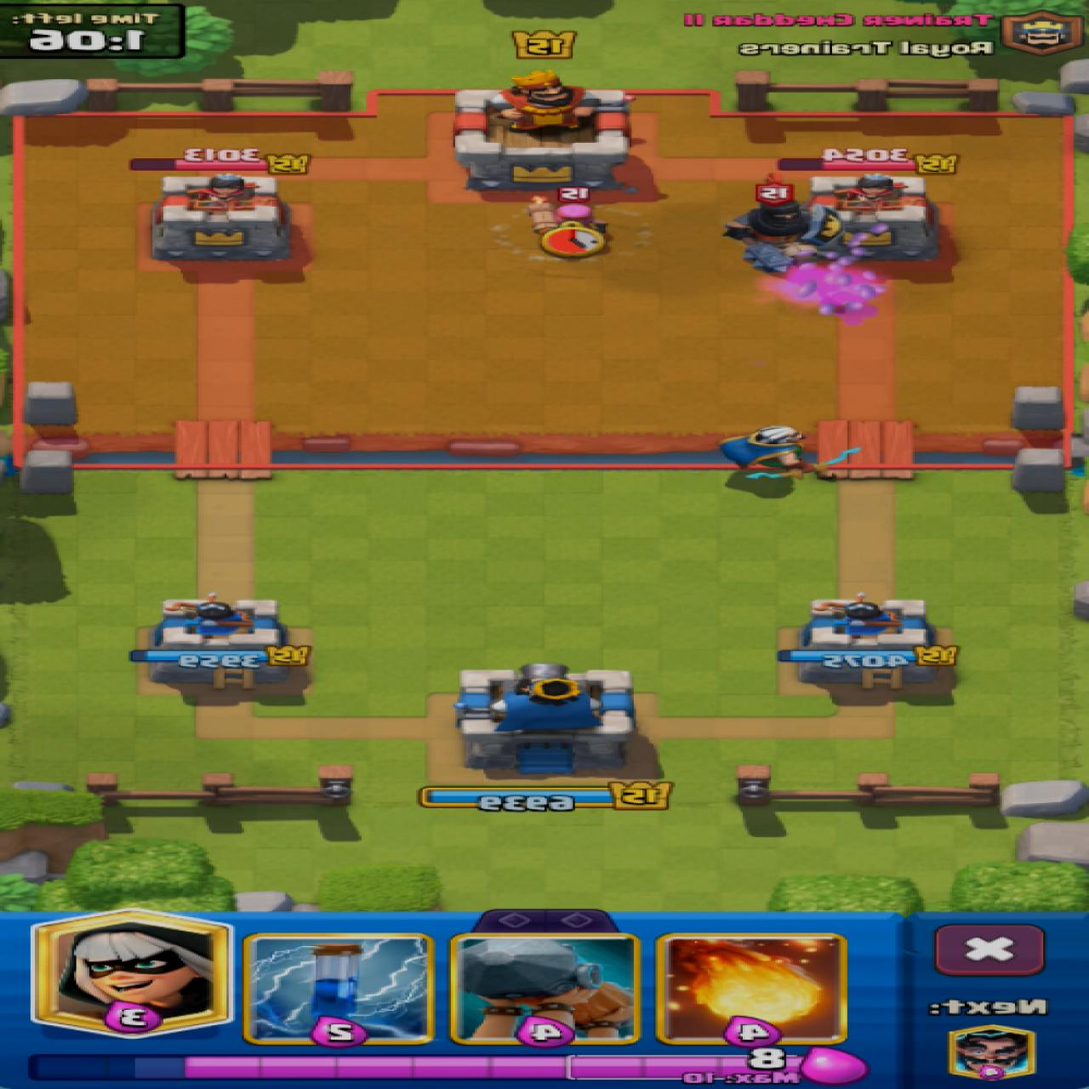Enemy-DarkPrince-Shield: (725, 201, 841, 270)
Enemy-DarkPrince-Shield-Charge: (152, 173, 290, 258), (808, 172, 939, 259)
Enemy-Firecracker: (529, 196, 605, 232)
Enemy-KingTower: (457, 70, 629, 188)
